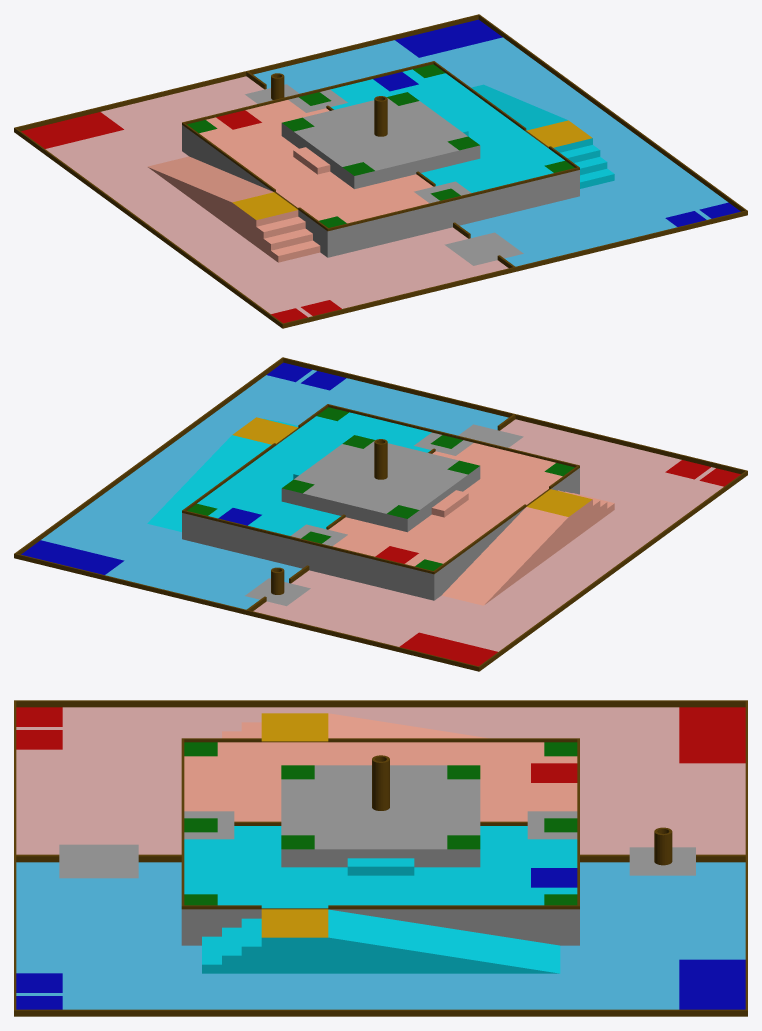
File: Robocon2027.glb
3 views of the same model, one above another, from view 1: azimuth 30°, elevation 25°; view 2: azimuth 150°, elevation 25°; view 3: azimuth 270°, elevation 25° (orthographic). The views are drawn at different scales.
Parts seen in each view (by area): view 1: Plane, Cylinder.001; view 2: Plane, Cylinder.001; view 3: Plane, Cylinder.001, Cylinder.
Part boxes in pixels (left/top/right/bottom): Plane: left=14, top=14, right=747, bottom=328; Cylinder.001: left=374, top=96, right=387, bottom=136; Plane: left=14, top=357, right=747, bottom=671; Cylinder.001: left=374, top=439, right=387, bottom=479; Plane: left=14, top=700, right=747, bottom=1016; Cylinder.001: left=372, top=755, right=389, bottom=810; Cylinder: left=654, top=827, right=672, bottom=865.
Size of the model in its own units: 11.05 by 1.7 by 11.05.
